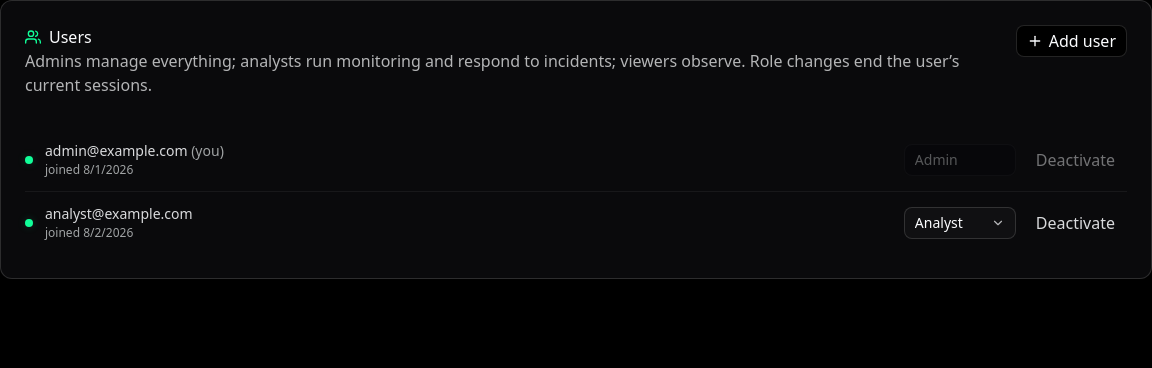
Scenario: user management role select › gives each row's role menu the full listbox contract
Expected: the text "analyst@example.com" is shown, [45,204,193,224]
Click the button "Analyst" at (960, 223), box [904,207,1016,239]
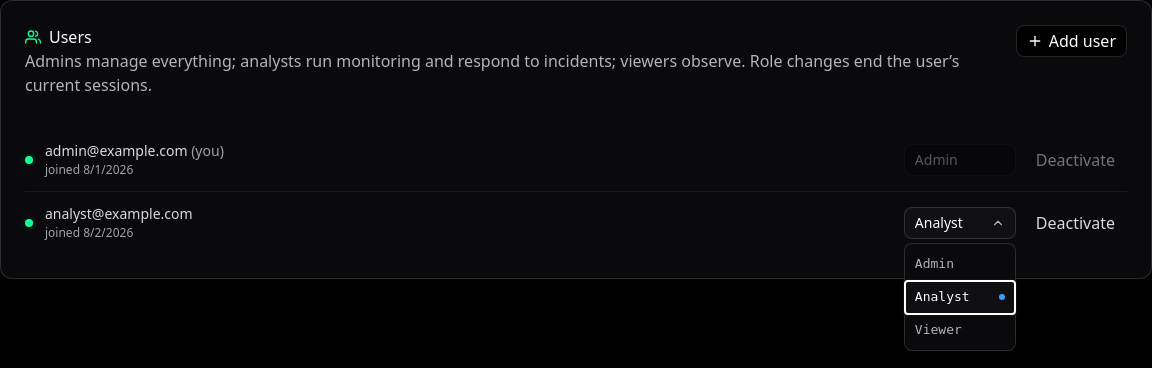
Expected: the button "Analyst" is expanded, [904,207,1016,239]
Expected: the option "Analyst" is shown
Press ArrowUp in the option "Analyst", box [905,281,1015,314]
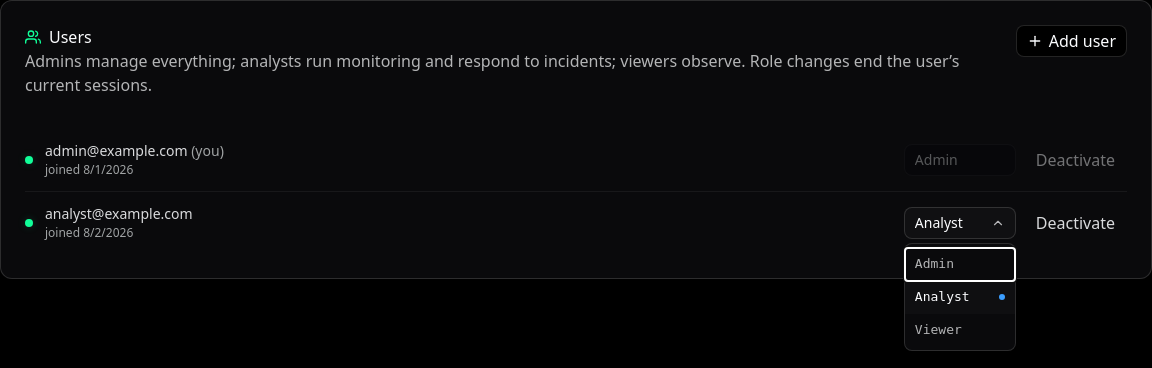
Expected: the option "Admin" is shown
Press Enter in the option "Admin", box [905,248,1015,281]
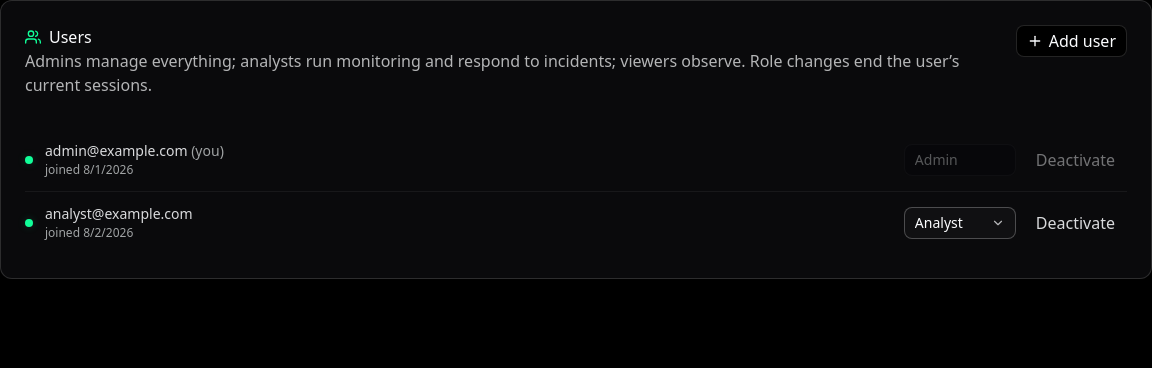
Expected: the button "Analyst" is collapsed
Press Enter in the button "Analyst", box [904,207,1016,239]
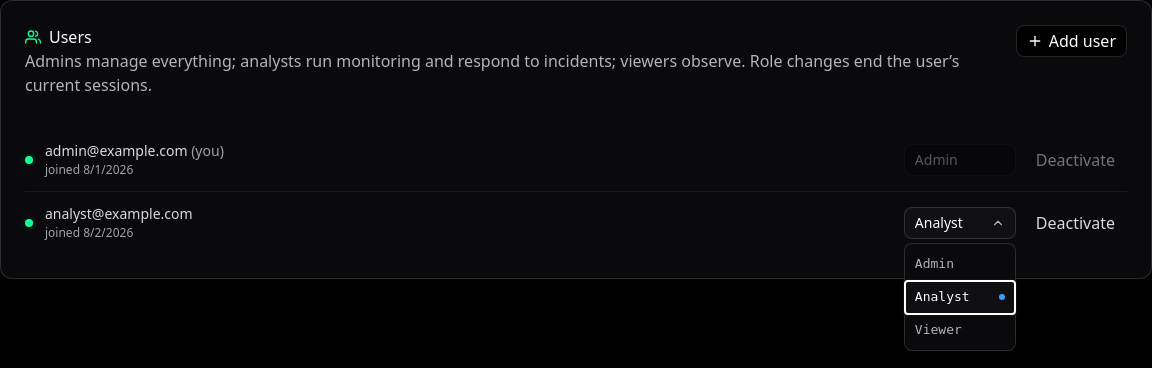
Expected: the button "Analyst" is expanded, [904,207,1016,239]
Press Escape
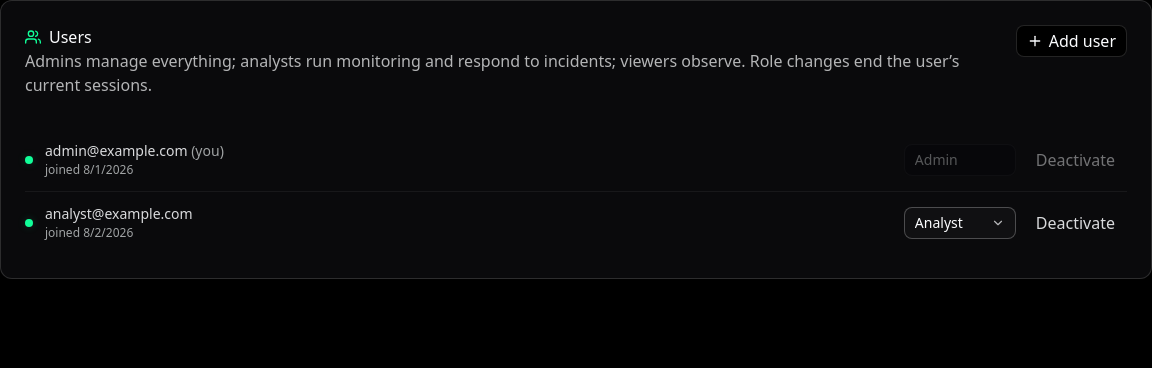
Expected: the button "Analyst" is collapsed, [904,207,1016,239]
